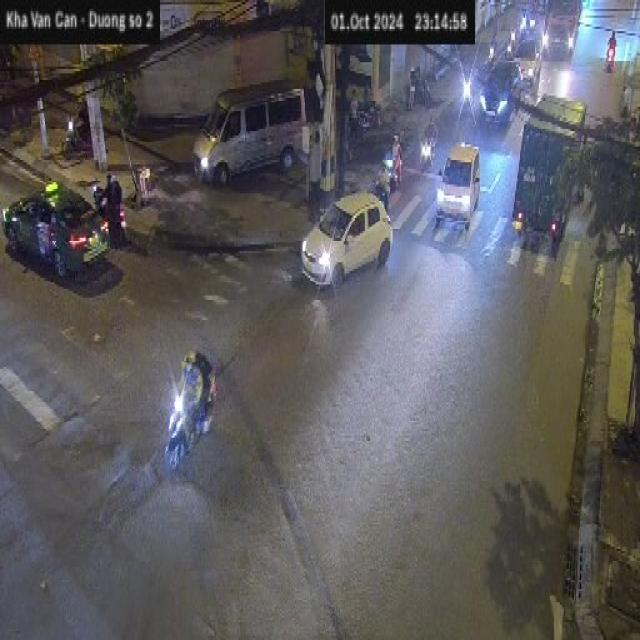car: (186, 73, 310, 194), (1, 180, 110, 278), (300, 189, 392, 287), (436, 130, 484, 240)
motorcycle: (164, 360, 220, 473)
truck: (512, 91, 586, 253)
